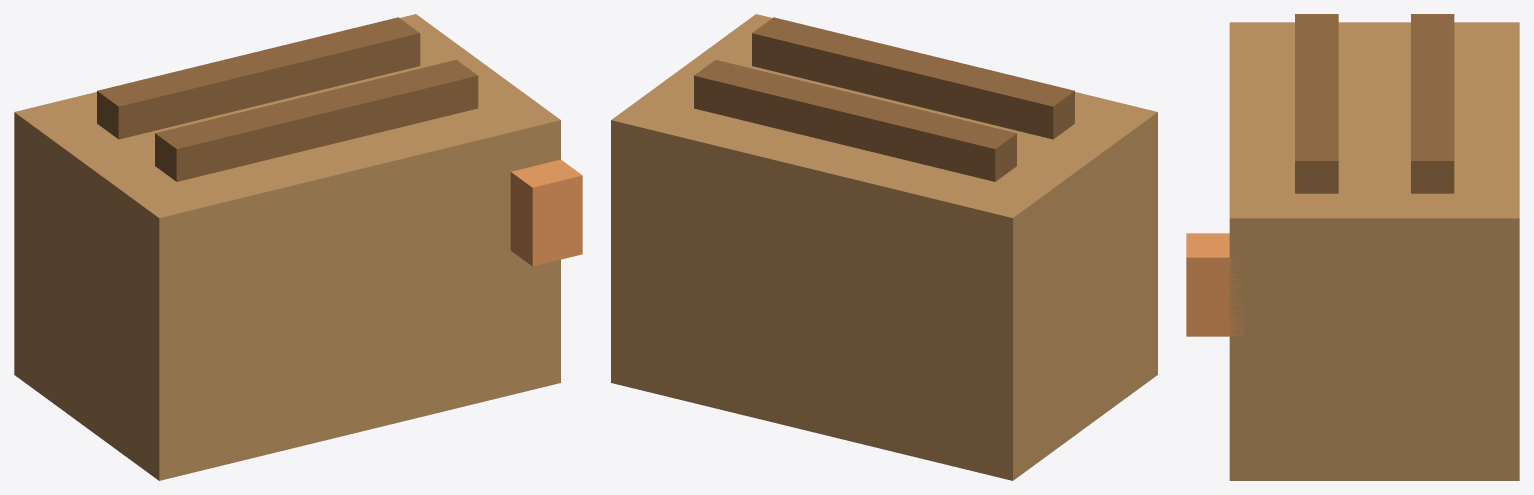
The model's file is toaster.glb.
3 renders of one model, left to right at view 1: azimuth 30°, elevation 25°; view 2: azimuth 150°, elevation 25°; view 3: azimuth 270°, elevation 25°, orthographic.
Parts seen in each view (by area): view 1: toaster; view 2: toaster; view 3: toaster.
Part boxes in pixels (x1,y1,x2,y2): toaster: (14,14,582,480); toaster: (611,14,1157,480); toaster: (1186,14,1519,480).
Bounding box in the file's own units: 16 × 11.25 × 11.5.
